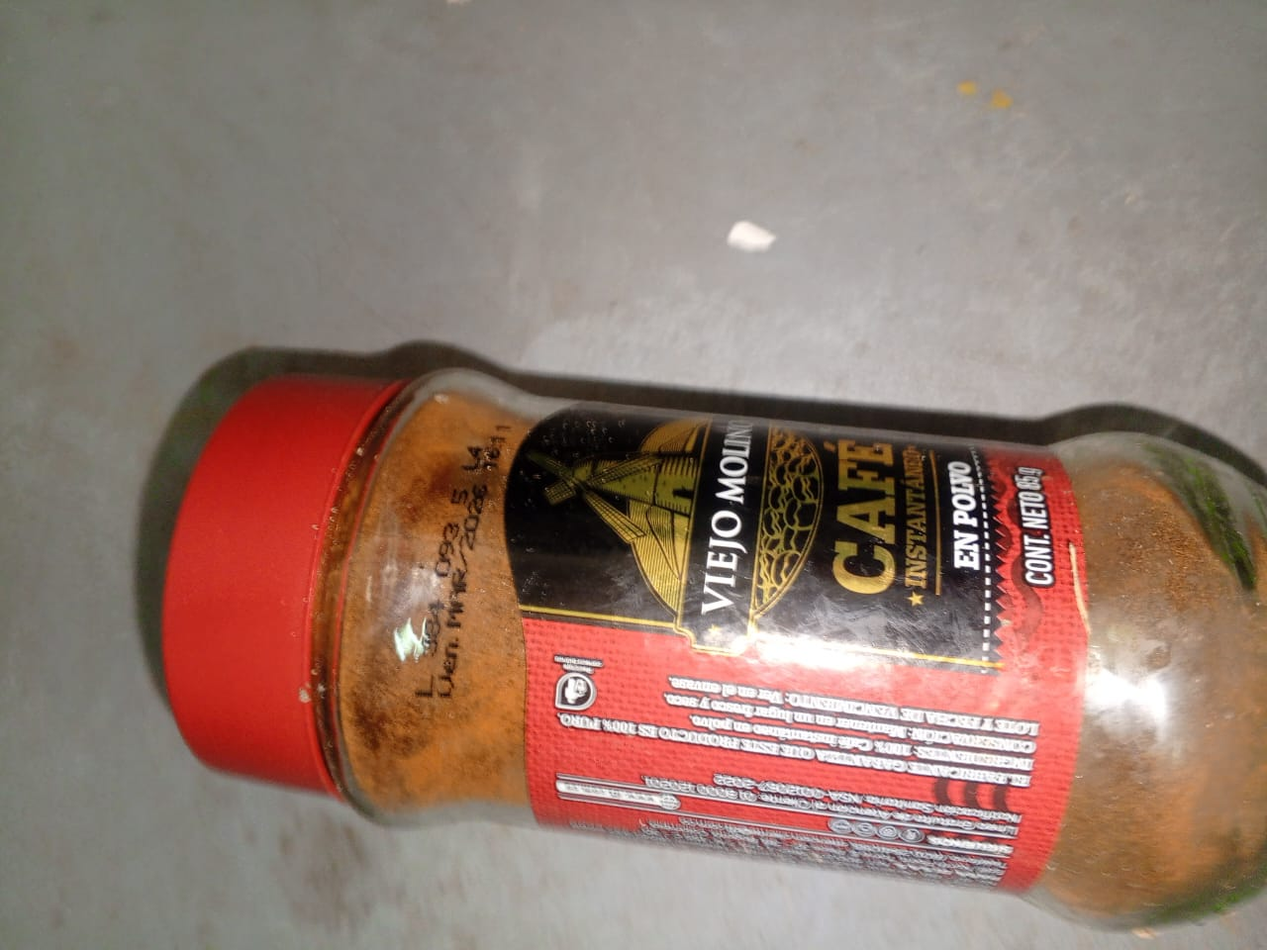Plastico: (160, 370, 334, 790)
Vidrio: (331, 367, 1267, 937)
